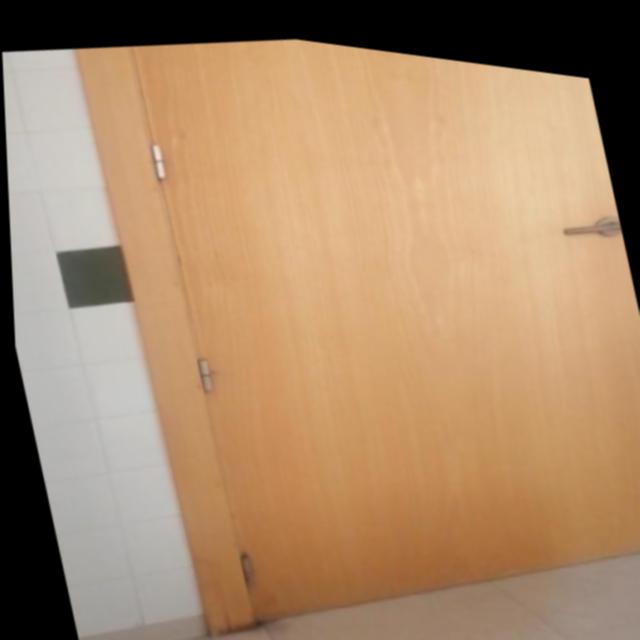door_handle: (559, 202, 622, 233)
